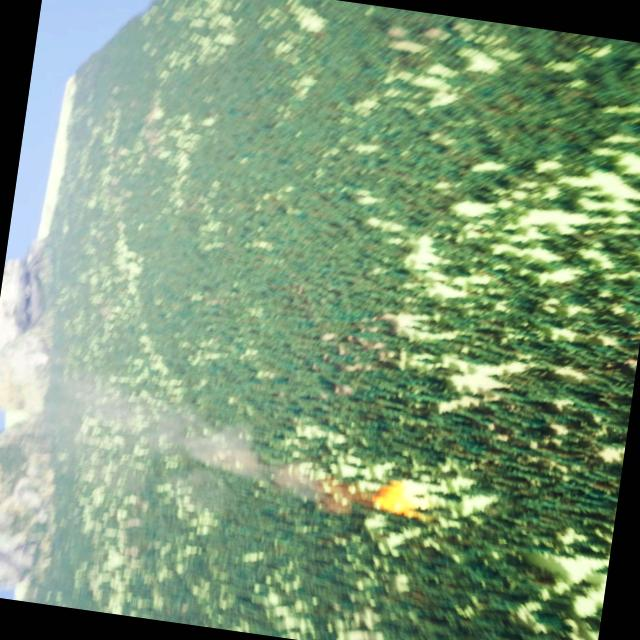fire: (371, 478, 422, 520)
smoke: (10, 368, 368, 516)
